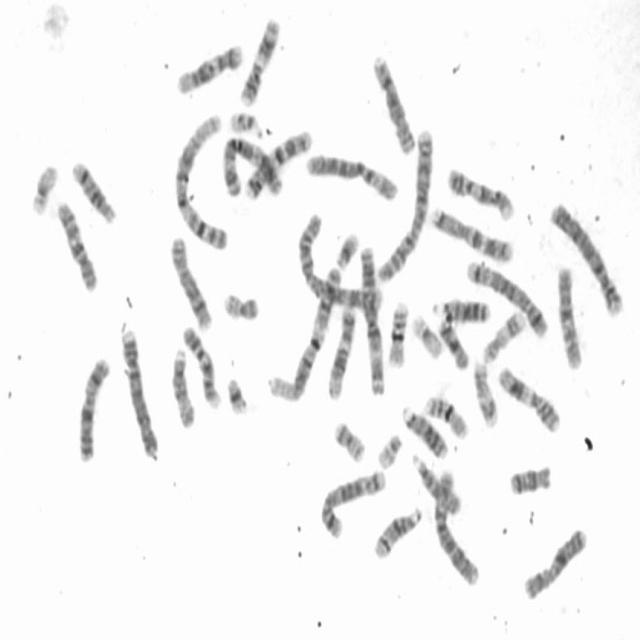A1: (264, 258, 344, 404), (170, 110, 230, 253)
A2: (376, 124, 436, 284), (294, 207, 384, 313)
A3: (356, 240, 387, 398), (218, 129, 285, 200)
B4: (547, 195, 626, 318), (118, 322, 162, 461)
B5: (463, 253, 552, 340), (316, 464, 388, 540)
C10: (53, 194, 100, 294), (553, 258, 586, 371)
C11: (494, 360, 564, 436), (236, 11, 282, 108)
C12: (172, 37, 246, 95), (324, 301, 358, 400)
C6: (430, 461, 482, 588), (304, 146, 402, 204)
C7: (427, 200, 516, 264), (242, 124, 314, 202)
C8: (369, 49, 417, 156), (167, 230, 214, 332)
C9: (443, 160, 517, 222), (179, 320, 222, 410)
D13: (398, 400, 450, 460), (427, 290, 491, 325)
D14: (68, 154, 118, 225), (370, 500, 425, 561)
D15: (409, 445, 464, 517), (168, 341, 198, 430)
E16: (421, 389, 471, 441), (384, 295, 411, 369)
E17: (479, 303, 527, 365), (470, 355, 500, 430)
E18: (436, 313, 471, 371), (506, 458, 555, 498)
F19: (28, 157, 60, 218), (408, 308, 445, 360)
F20: (330, 414, 368, 464), (219, 286, 261, 323)
G21: (332, 225, 361, 271), (223, 370, 250, 417)
G22: (226, 104, 265, 139), (373, 428, 404, 470)
X: (520, 521, 590, 602), (74, 350, 112, 463)
